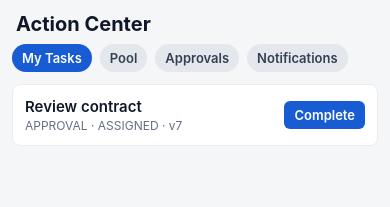
Test case: R2-I Action Center › 409 surfaces "Stale — reload", reloads the list, and does NOT re-send the mutation
The image size is (390, 207).
Click the button with test id "task-complete-wi-1" at {"x": 325, "y": 115}, box [284,101,365,129]
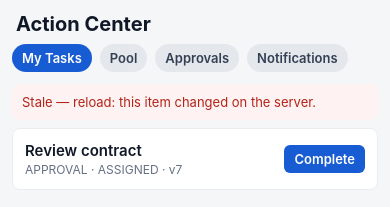
Result: the text "Stale — reload: this item changed on the server." is shown at [12,84,378,120]
